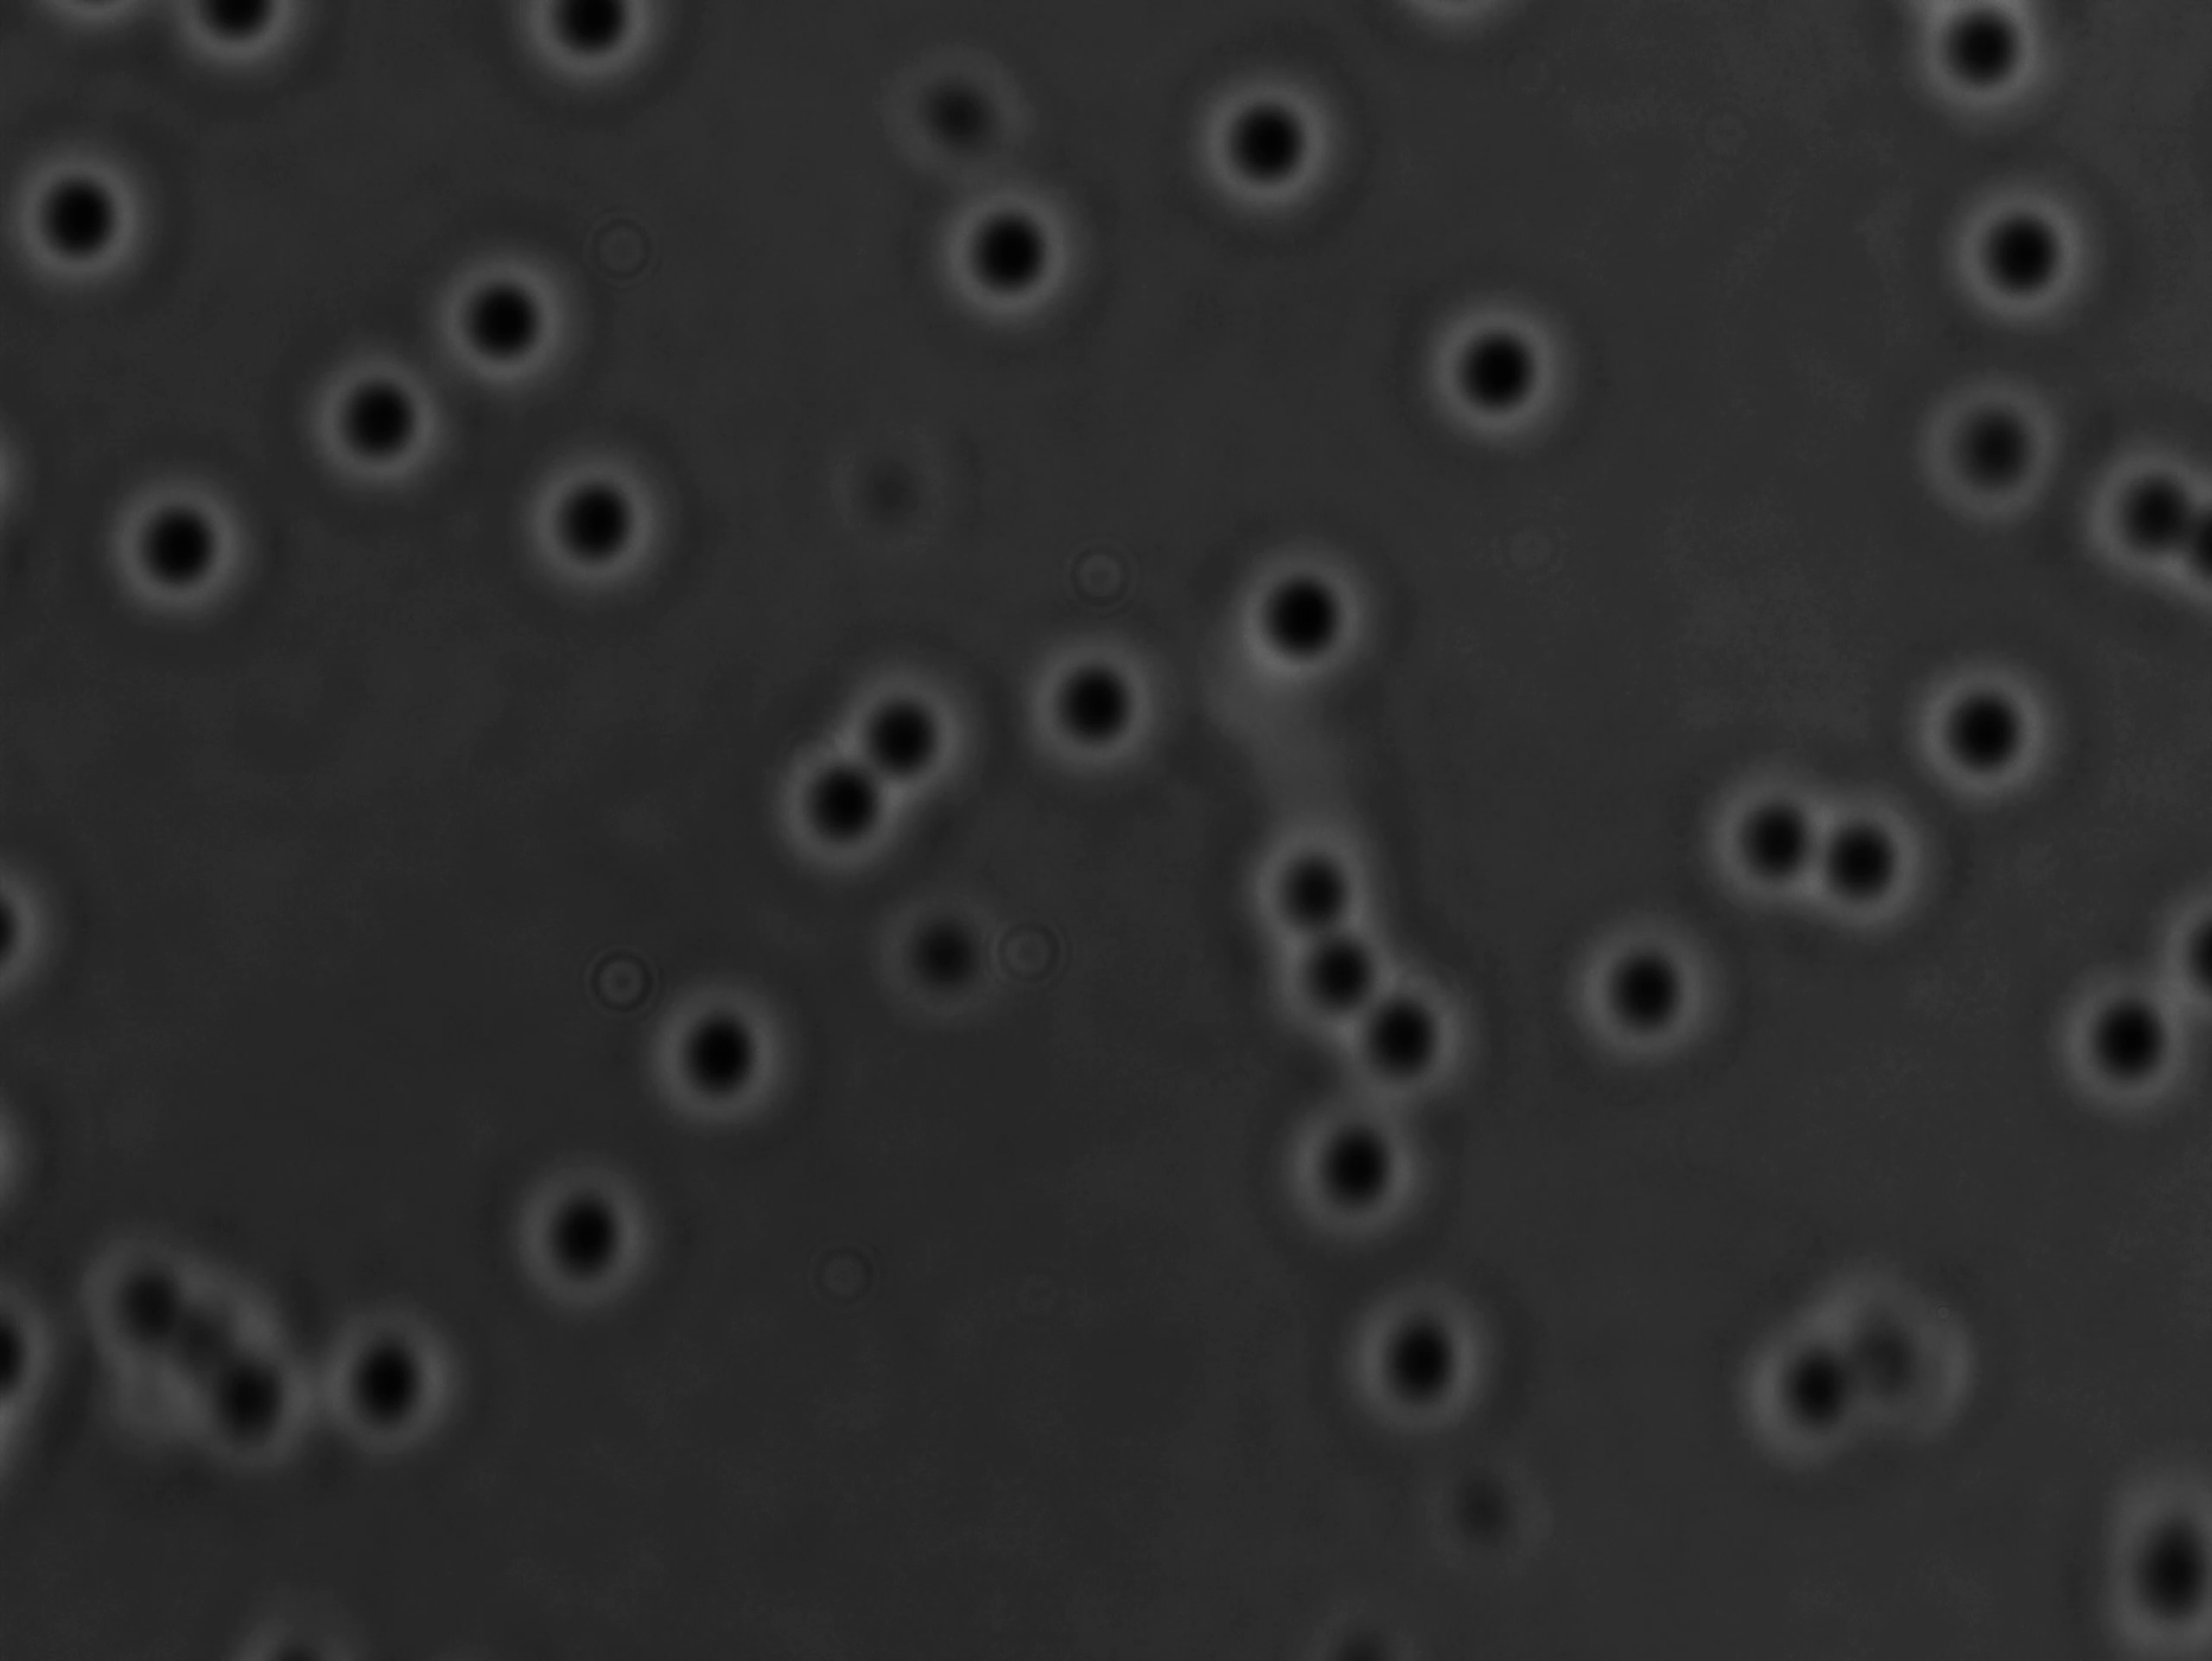depth:-80: (1317, 1267, 1546, 1478), (921, 154, 1139, 361), (619, 951, 850, 1145), (1171, 51, 1387, 255), (481, 1127, 701, 1328), (1884, 630, 2095, 836), (1535, 893, 1753, 1087), (1387, 265, 1596, 466), (1249, 1080, 1471, 1267), (806, 623, 1008, 827), (1207, 518, 1420, 712), (84, 459, 286, 658), (492, 434, 696, 626), (1889, 359, 2095, 550), (736, 703, 940, 886), (405, 229, 611, 410), (1005, 625, 1202, 811), (2032, 940, 2212, 1145), (1924, 164, 2111, 349), (297, 344, 478, 515)
